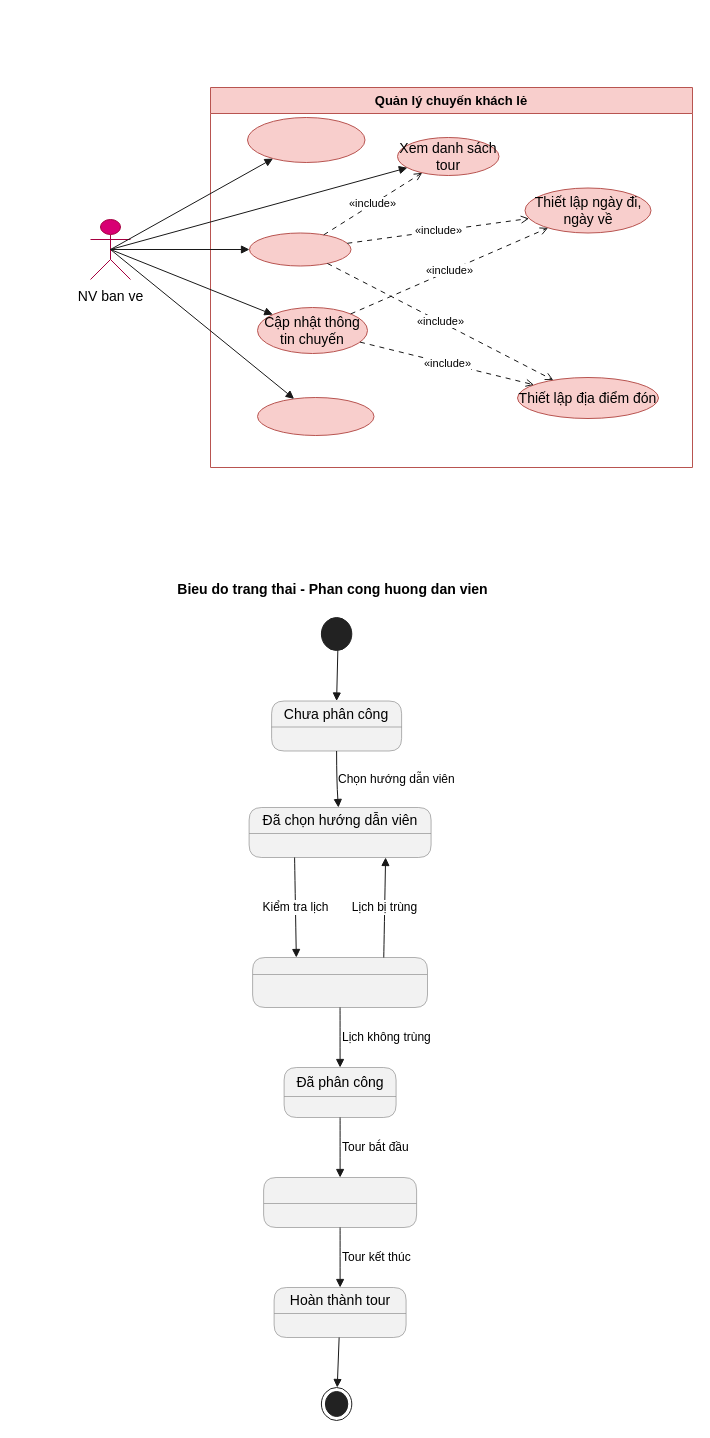
This 710x1438 diagram has some shape labels left out. Here are the shapes that lost their labels. From the top down, the centre of each, then its label:
At pixel 305 139: "Xem danh sách chuyến lẻ".
At pixel 299 249: "Thêm chuyến lẻ".
At pixel 315 416: "Quản lý điểm bán vé".
At pixel 339 982: "Đã kiểm tra lịch".
At pixel 339 1202: "Đang thực hiện tour".
